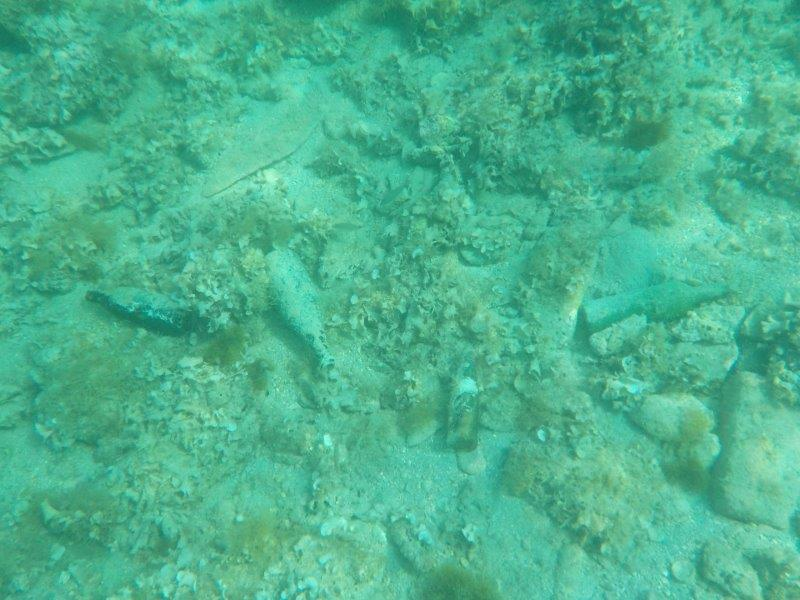bottle: (258, 247, 340, 377), (580, 276, 736, 342), (82, 284, 199, 336), (438, 339, 489, 453)
